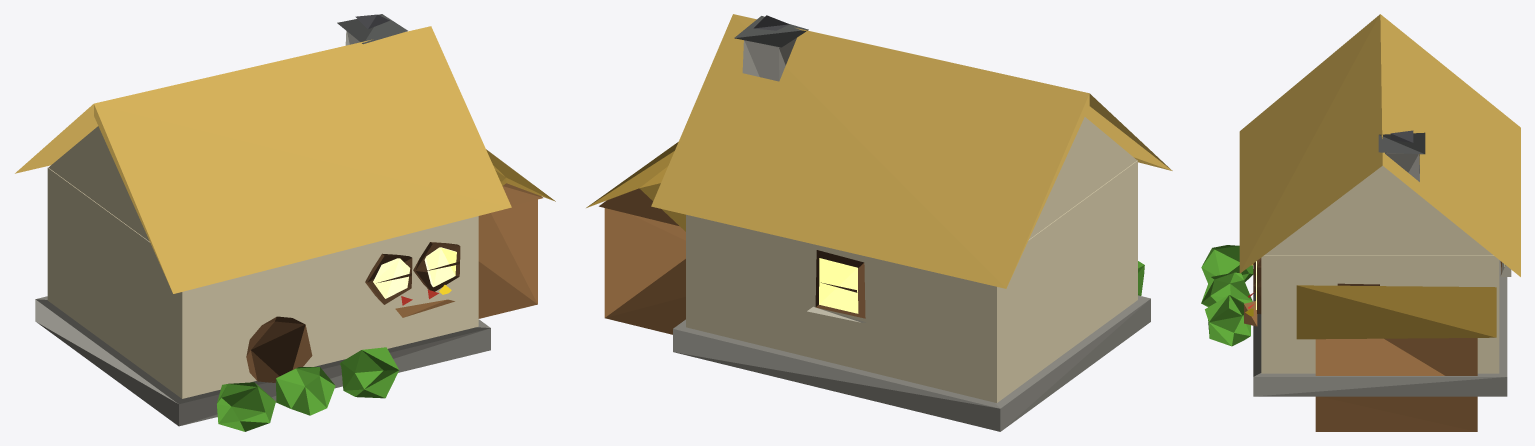
The model's file is hobbit_cottage_3_lod1.glb.
3 views of the same model, side by side, from view 1: azimuth 30°, elevation 25°; view 2: azimuth 150°, elevation 25°; view 3: azimuth 270°, elevation 25° (orthographic). The views are drawn at different scales.
Parts seen in each view (by area): view 1: hobbit_cottage_3_lod1; view 2: hobbit_cottage_3_lod1; view 3: hobbit_cottage_3_lod1.
Part boxes in pixels (left/top/right/bottom): hobbit_cottage_3_lod1: left=15, top=14, right=555, bottom=431; hobbit_cottage_3_lod1: left=586, top=14, right=1172, bottom=431; hobbit_cottage_3_lod1: left=1201, top=14, right=1520, bottom=431.
Size of the model in its own units: 7.85 by 5.15 by 5.92.
